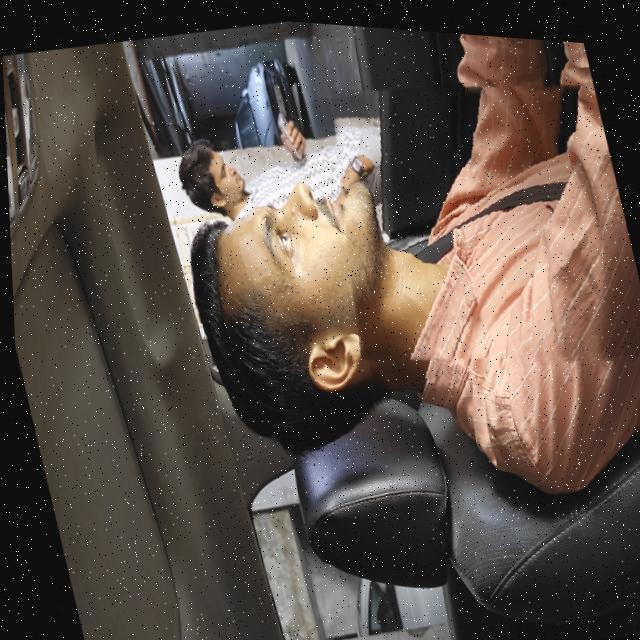seatbelt: (304, 41, 640, 396)
